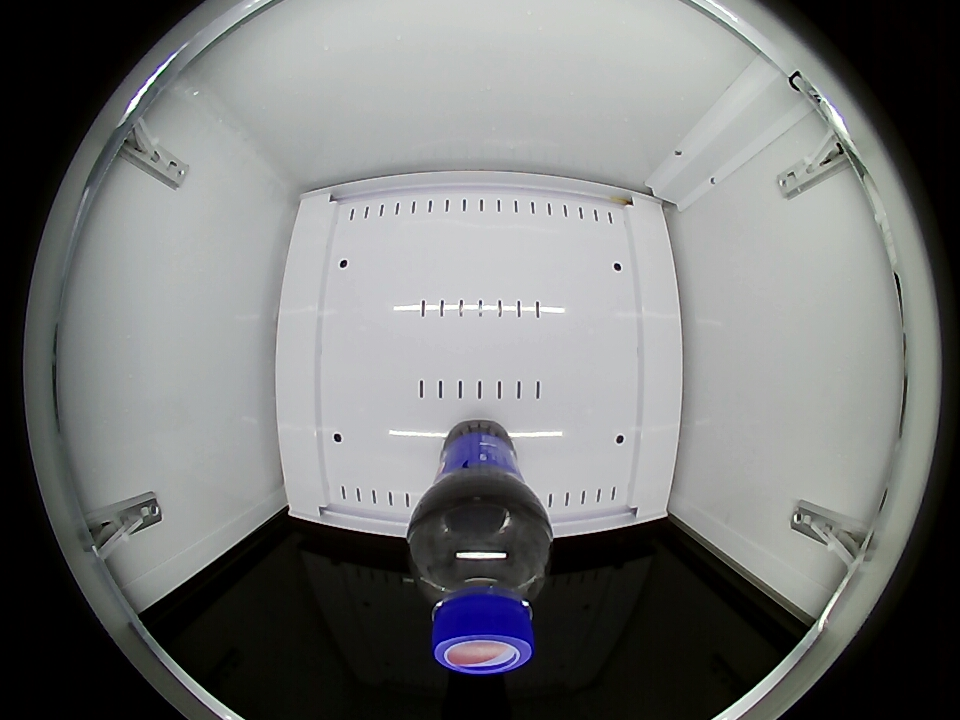baishikele-2: (409, 506, 553, 675)
